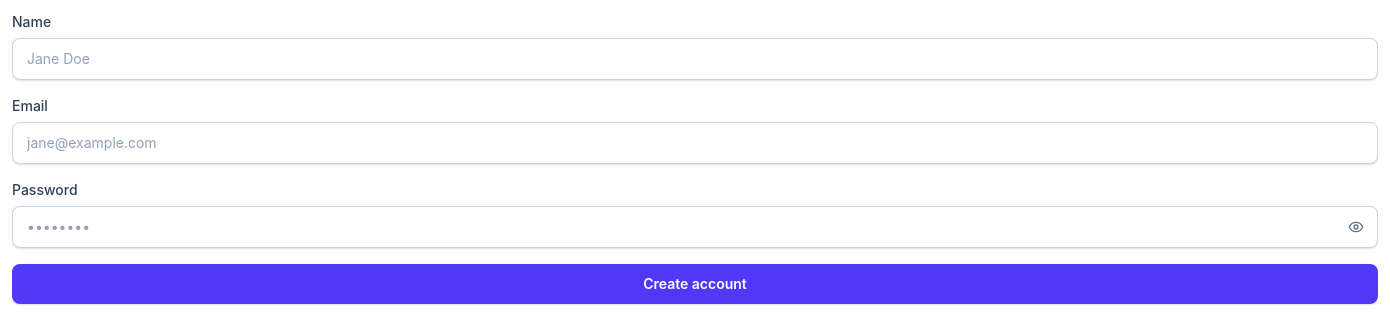
it: SignupForm › toggles password visibility without clearing the field value
The width and height of the screenshot is (1390, 322).
In the password field labelled "Password": {"x": 695, "y": 227} [12,206,1378,248], type "Passw0rd!"
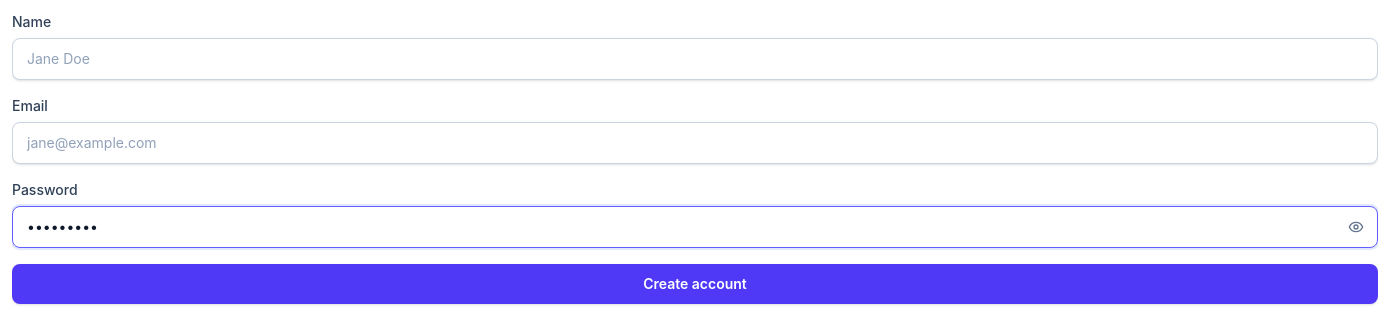
Click the button named "Show password": {"x": 1356, "y": 227} [1344,215,1368,239]
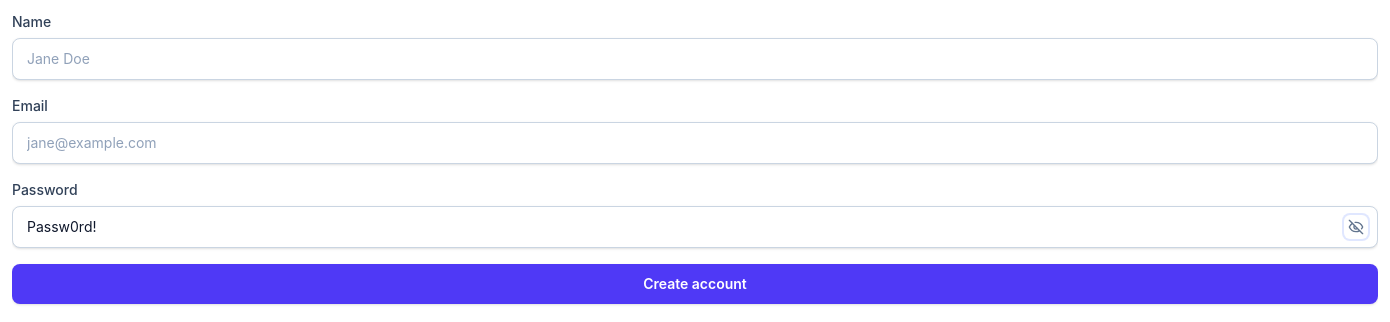
Now the field labelled "Password" shows its text, box [12,206,1378,248]
